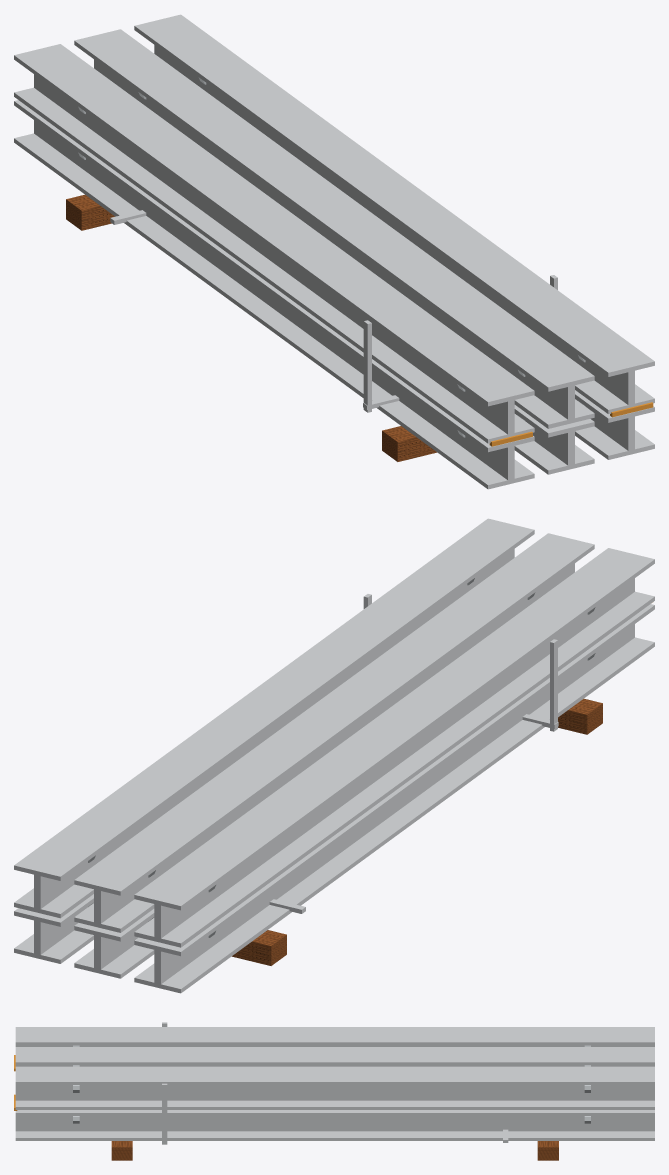
Rendered from demolition-and-site-clearance-demolition-and-site-clea-d64be525__35682.glb.
The picture shows the model from 3 angles, top to bottom: view 1: azimuth 30°, elevation 25°; view 2: azimuth 150°, elevation 25°; view 3: azimuth 270°, elevation 25°; orthographic projection. The views are drawn at different scales.
Visible parts, largest first — view 1: demolition-and-site-clearance-steel-beam-bundle; view 2: demolition-and-site-clearance-steel-beam-bundle; view 3: demolition-and-site-clearance-steel-beam-bundle.
Part boxes in pixels (x1=…): demolition-and-site-clearance-steel-beam-bundle: x1=14, y1=14, x2=654, y2=489; demolition-and-site-clearance-steel-beam-bundle: x1=14, y1=518, x2=654, y2=993; demolition-and-site-clearance-steel-beam-bundle: x1=14, y1=1022, x2=654, y2=1160.
Size of the model in its own units: 1.5 by 0.7598 by 6.01.
Materials: 4 (1 with a texture image).
